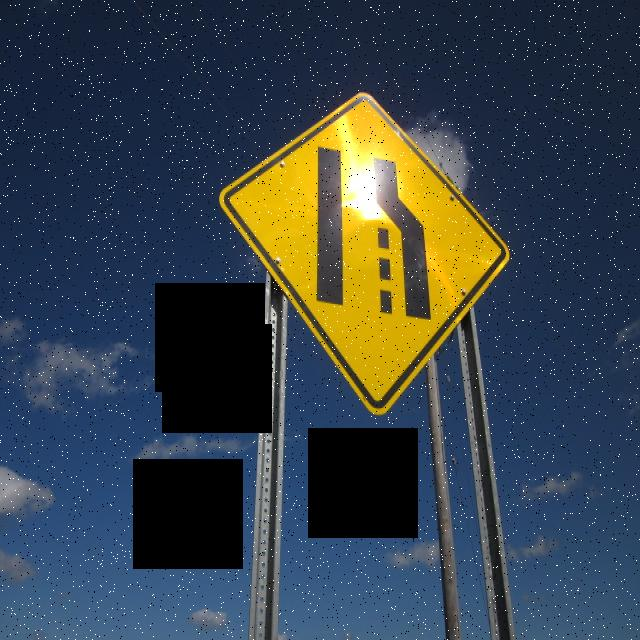warning: (211, 74, 513, 422)
